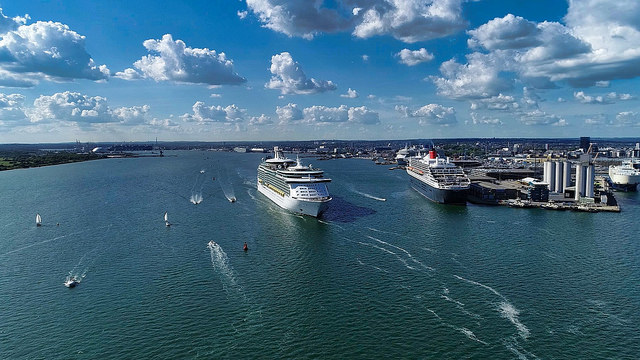boat: (159, 210, 174, 228), (66, 276, 77, 288), (35, 212, 43, 228)
cruise_ship: (255, 145, 334, 223), (407, 147, 469, 205)
